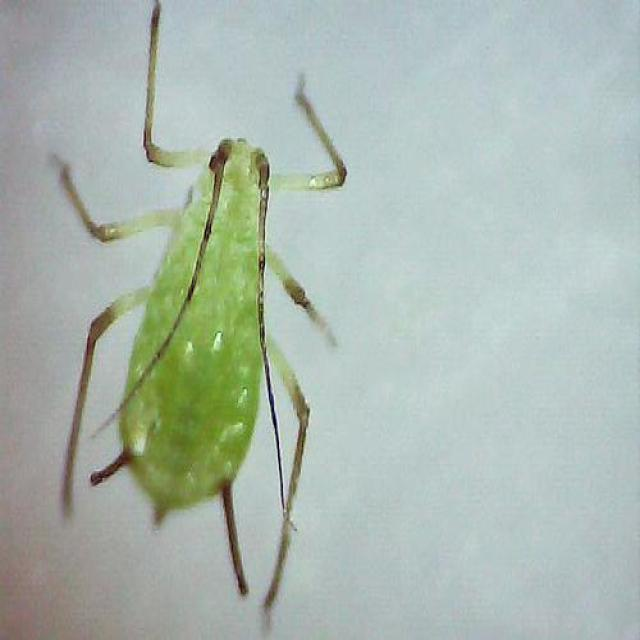Aphids: (48, 63, 354, 580)
